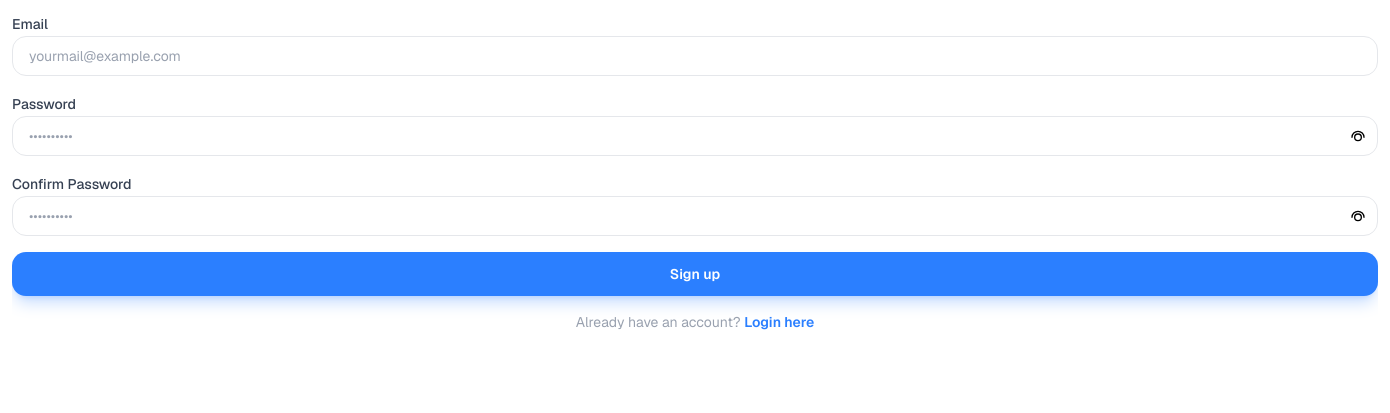
Test case: RegisterForm — Unit Tests › TC-REG-02: shows validation errors when submitting empty form
What coordinates should you click on to do the following:
click the button "Sign up"
I would click on:
 (695, 274)
Its box is [12,252,1378,296].
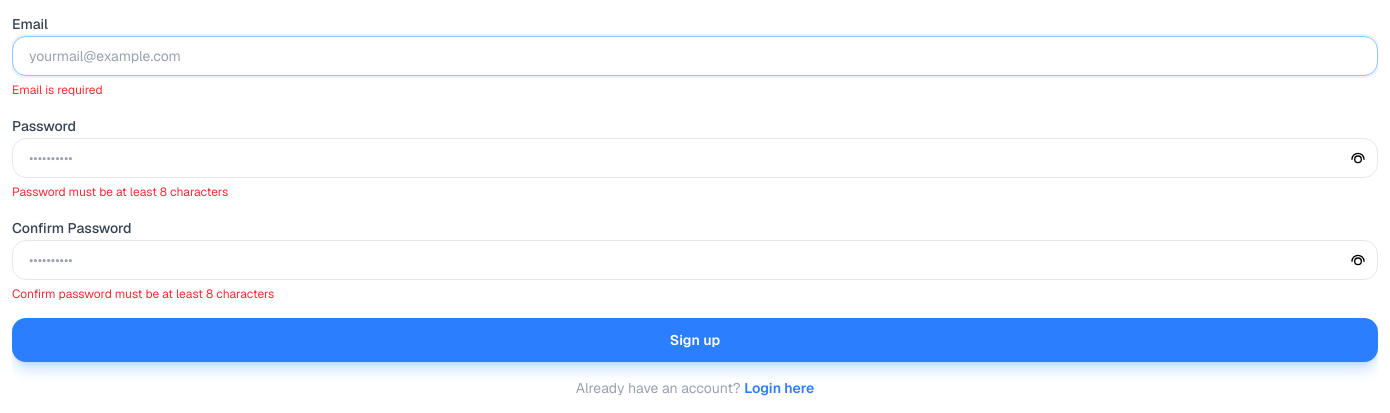
expect the text "Email is required" is shown: met, box [12,82,103,98]
